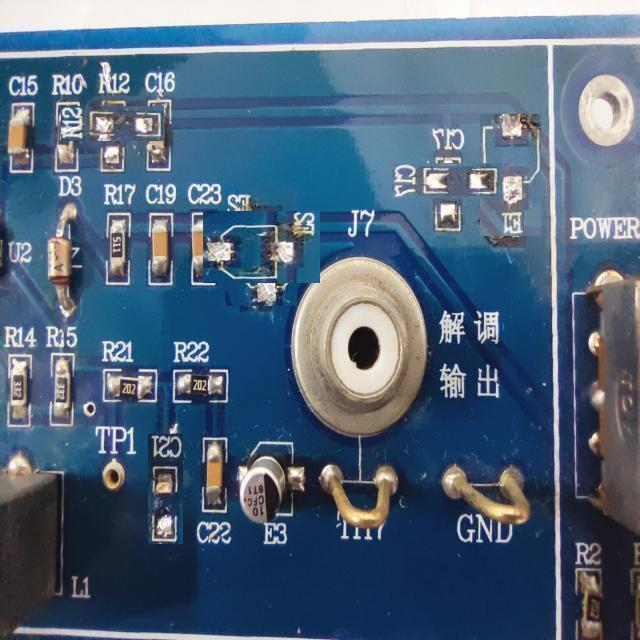miss_welding: (214, 199, 309, 295), (480, 114, 541, 236), (411, 144, 484, 217), (78, 89, 148, 158), (147, 433, 183, 544)
